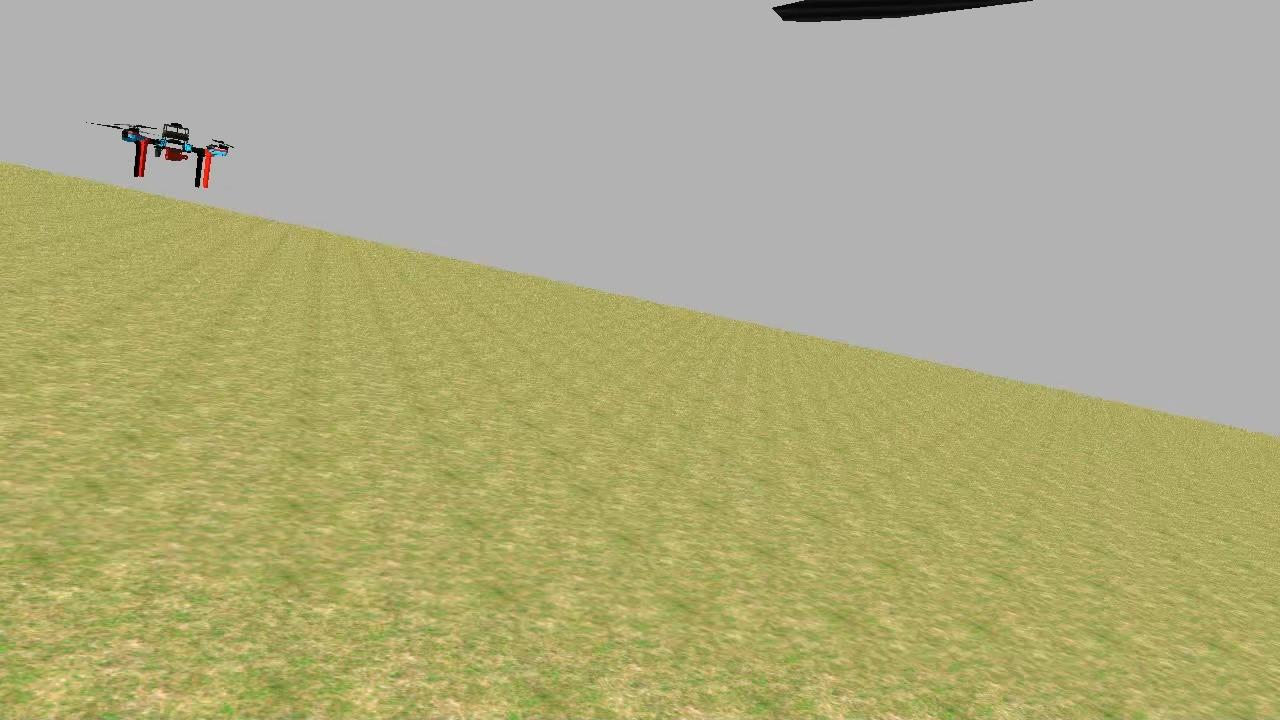UAV: (107, 113, 234, 200)
